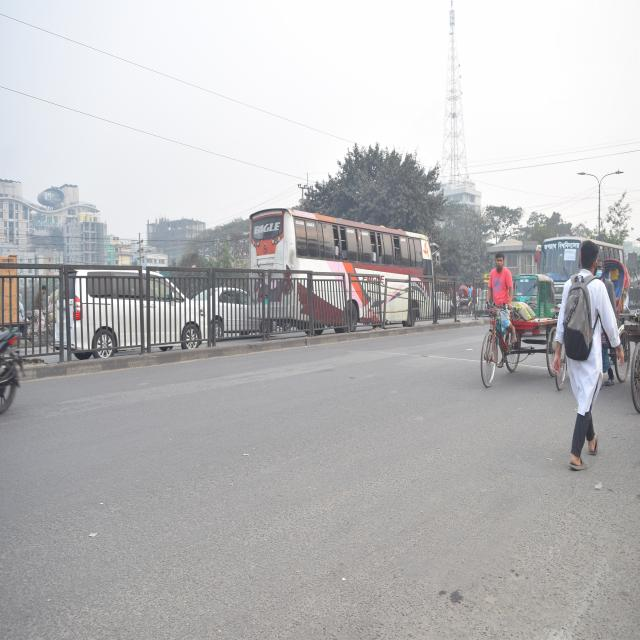bus: (252, 207, 439, 335), (538, 230, 626, 299)
car: (56, 256, 207, 364), (199, 274, 257, 342)
